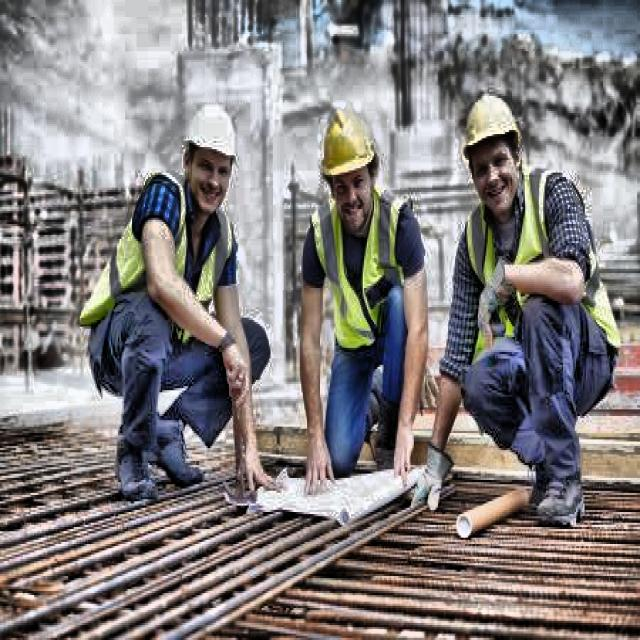helmet: (458, 83, 530, 222), (313, 106, 381, 235), (179, 102, 242, 220)
